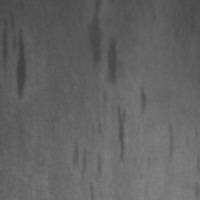inclusion: (9, 24, 33, 107), (65, 139, 108, 182), (83, 1, 108, 74), (109, 102, 133, 166), (104, 36, 127, 88), (160, 117, 181, 168), (132, 83, 155, 120)
